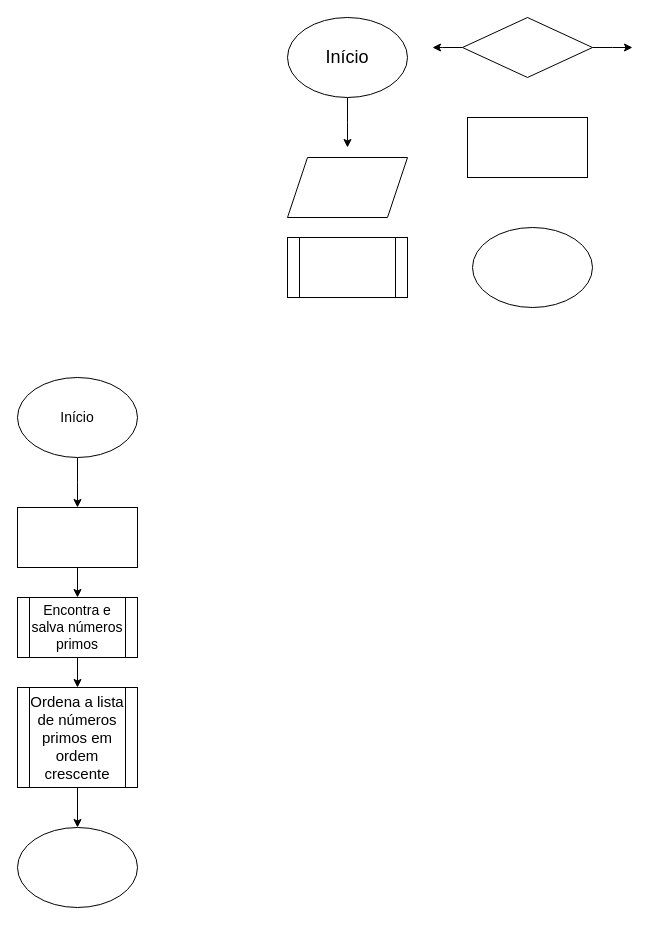
Some shapes in this 658 by 925 pixel diagram are drawn without their labels. Here are the shapes that lost their labels. From the top down, the centre of each, then its label:
At (x=77, y=537): "Carrega lista de números aleatórios na RAM".
At (x=77, y=867): "return".
